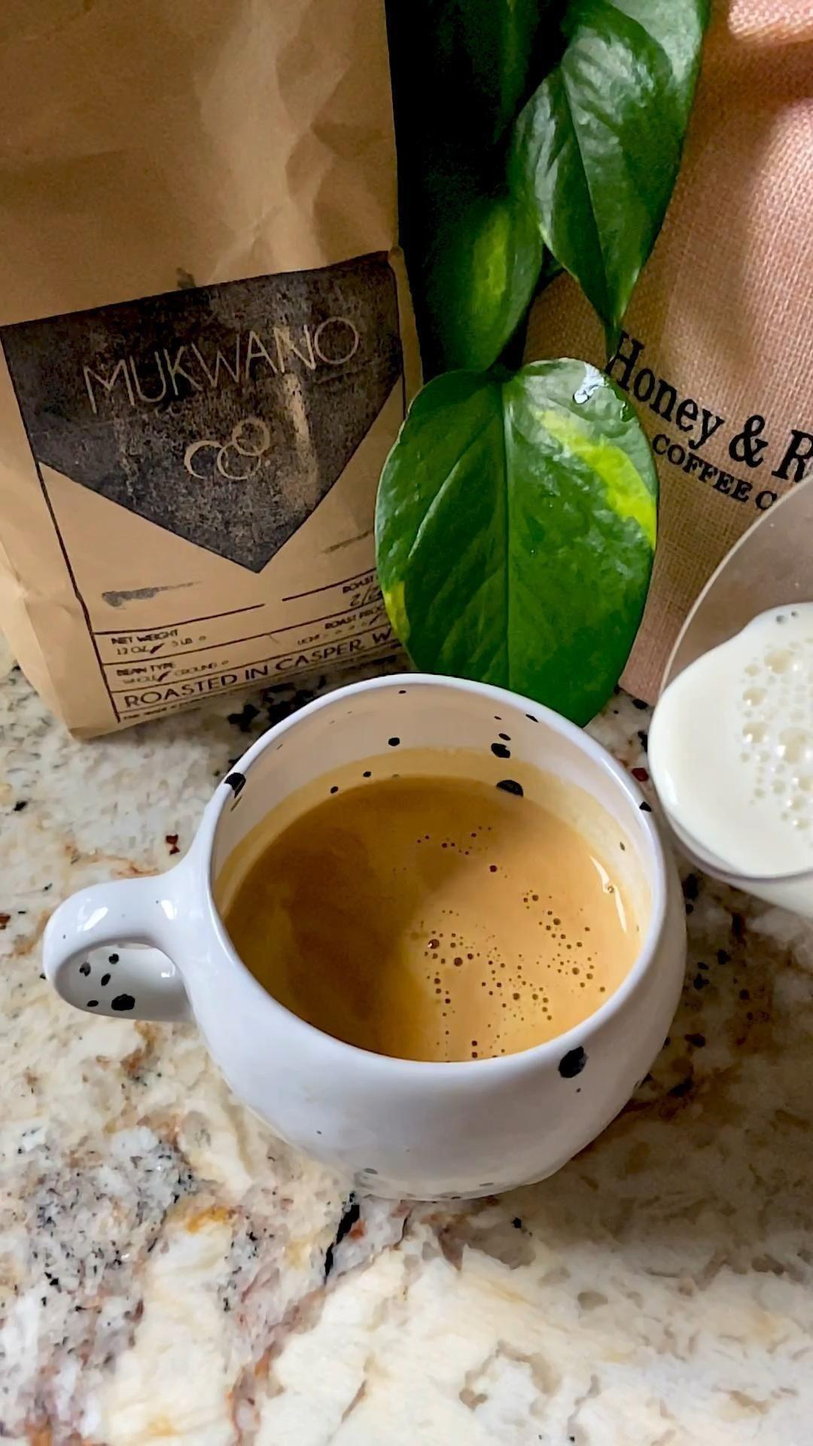cup-handle: (41, 668, 692, 1207)
